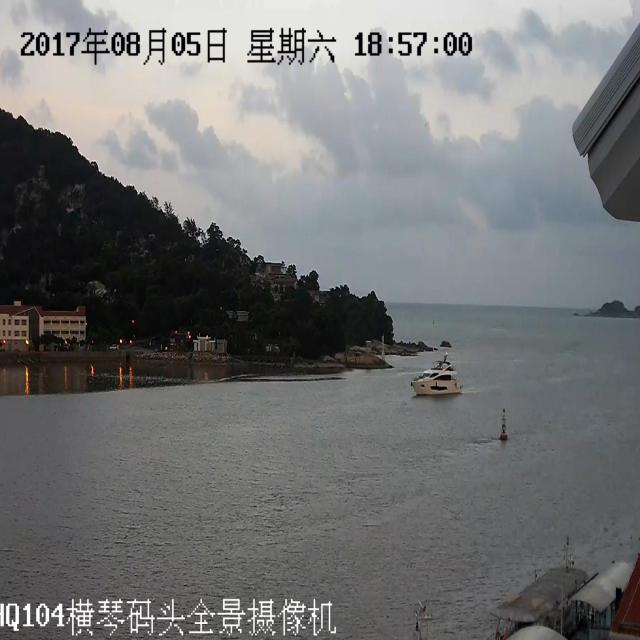buoy: (498, 397, 515, 452)
passenger ship: (408, 358, 460, 409)
reef: (579, 295, 640, 337)
